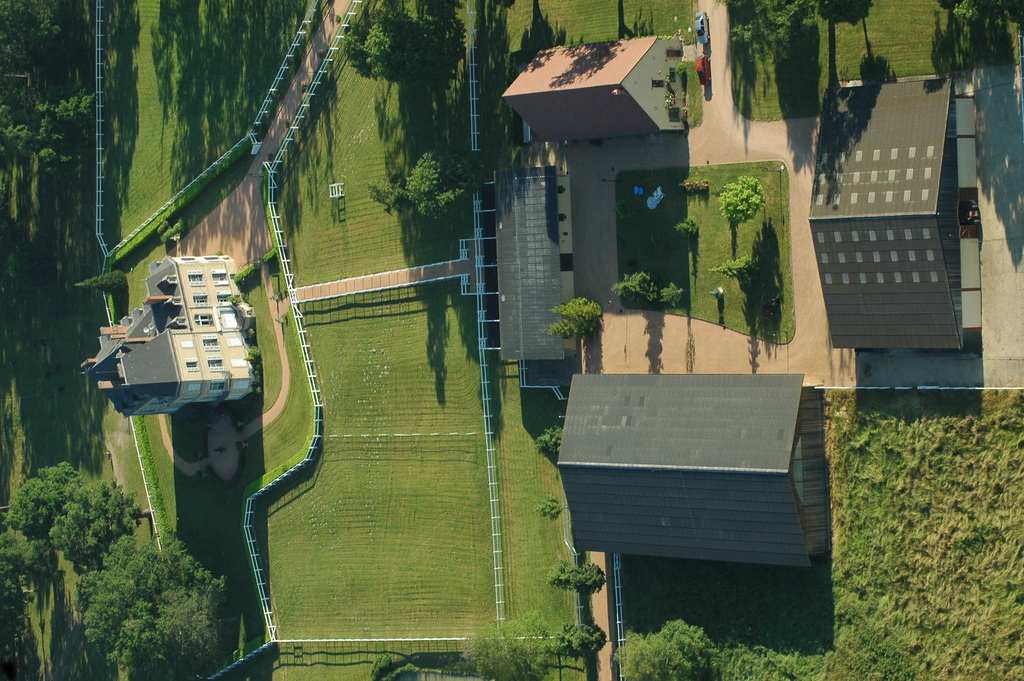Tree: (74, 520, 235, 679), (0, 465, 152, 581), (0, 0, 88, 192), (455, 603, 584, 680), (349, 0, 433, 71), (609, 629, 719, 680), (403, 153, 456, 229), (751, 0, 816, 55), (0, 531, 60, 582), (709, 174, 761, 221), (555, 288, 600, 342), (707, 253, 757, 285), (941, 0, 990, 29), (624, 258, 655, 302)
